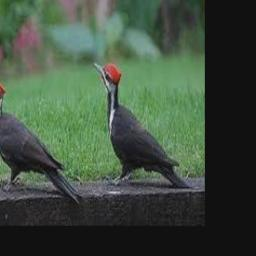Woodpecker: (92, 61, 190, 187), (0, 79, 82, 203)
